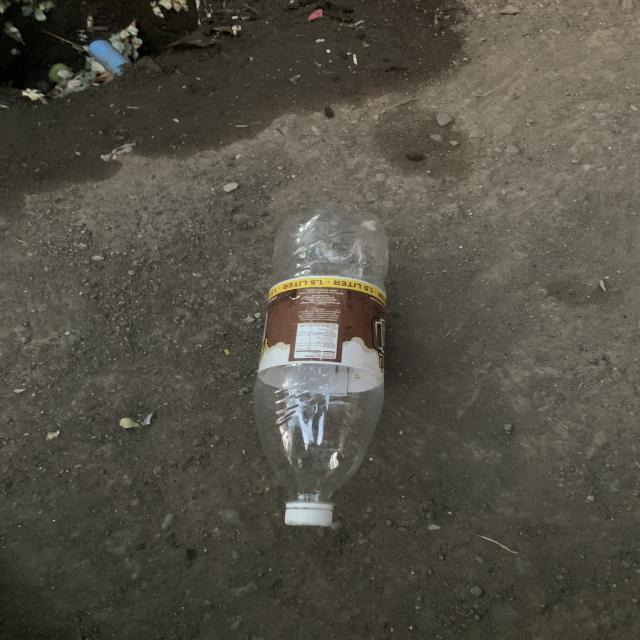Bottle: (254, 203, 388, 526)
